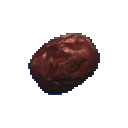gd: (22, 17, 115, 104)
